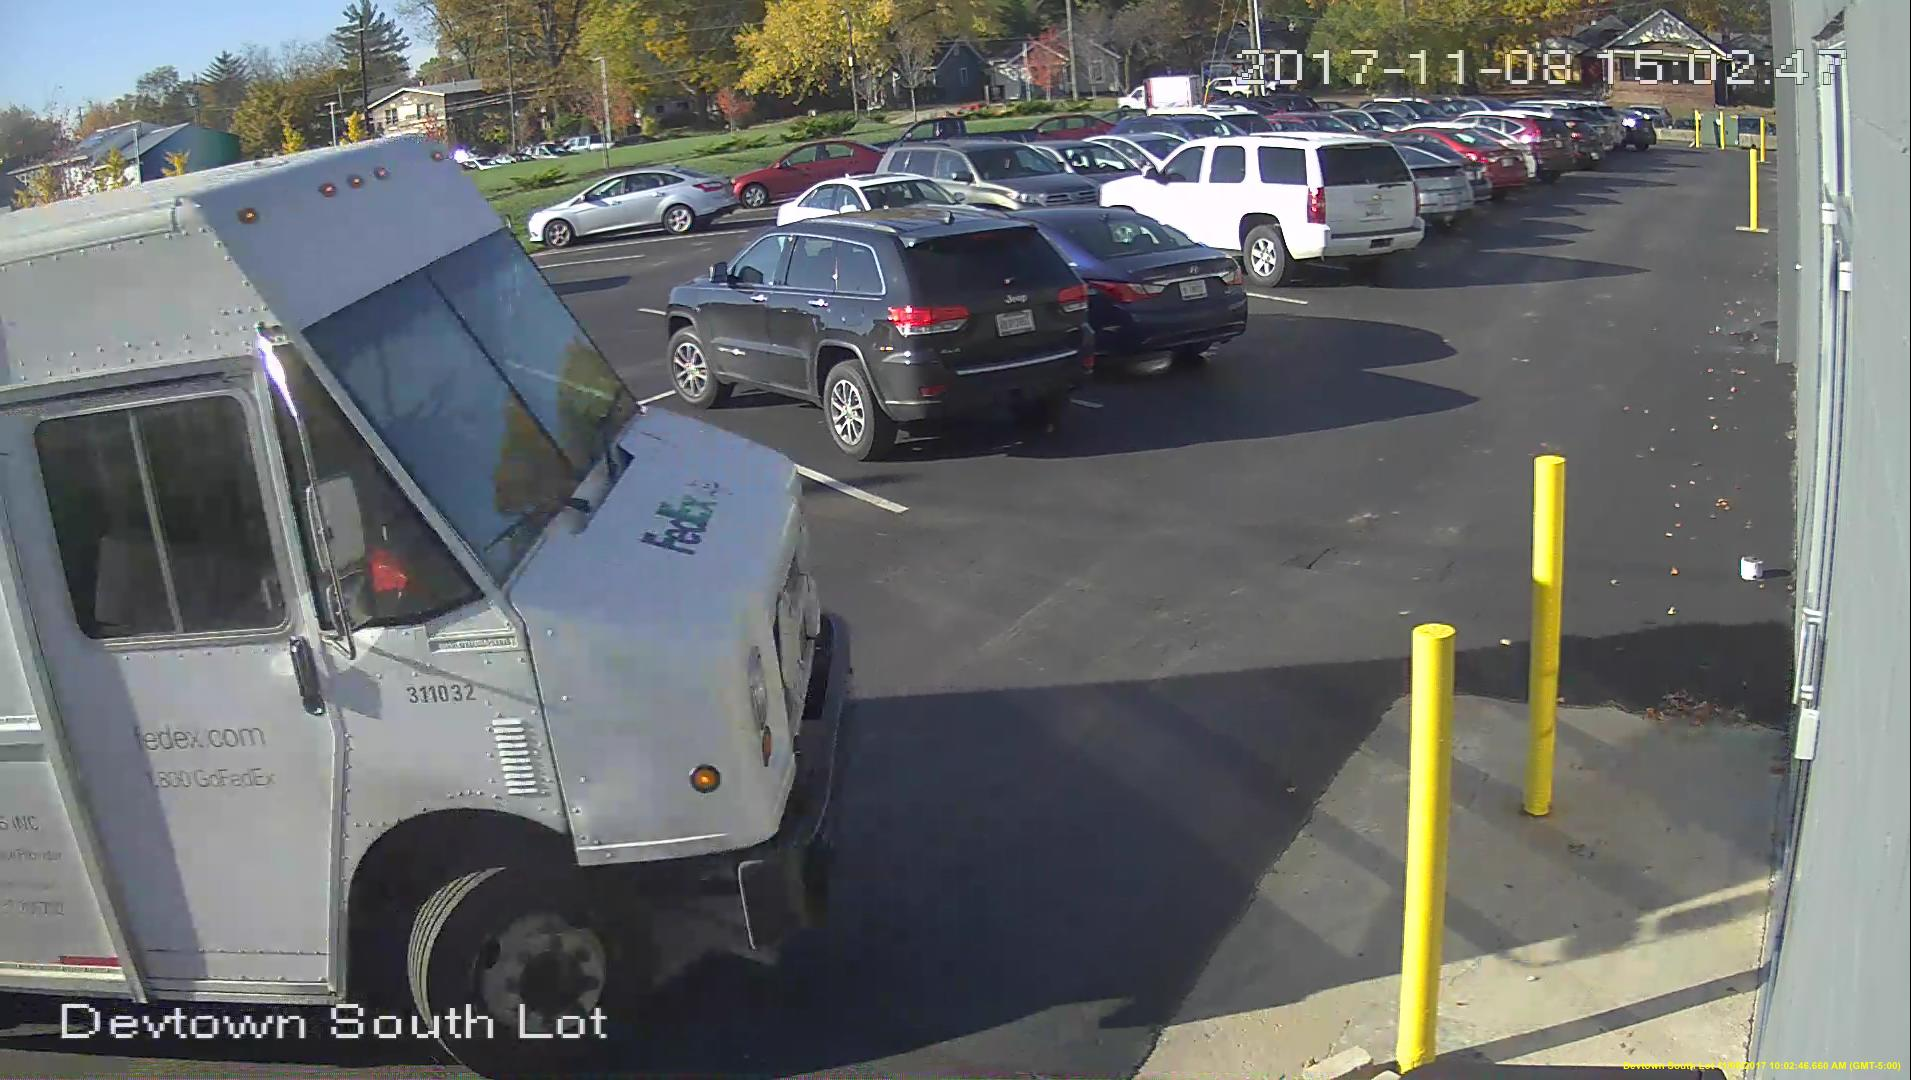fedex_truck: (3, 130, 862, 1007)
